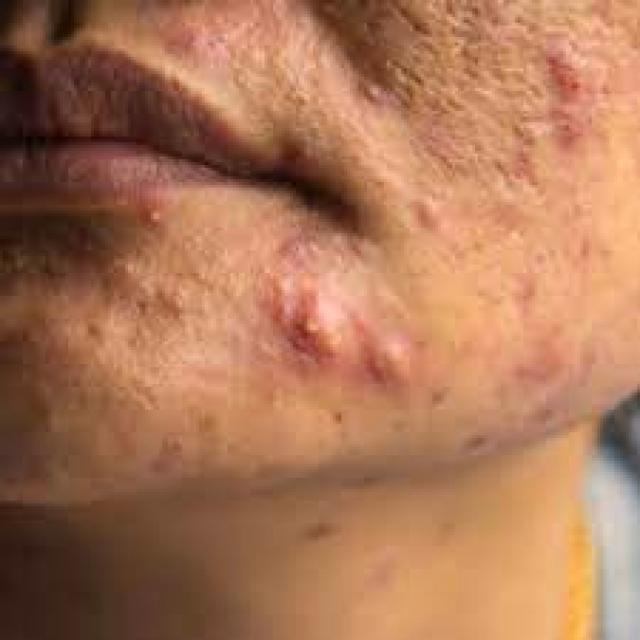Acne: (296, 288, 352, 362), (363, 329, 418, 389), (548, 44, 582, 104), (508, 274, 540, 310), (265, 268, 299, 300), (139, 202, 167, 230), (358, 80, 386, 106)
